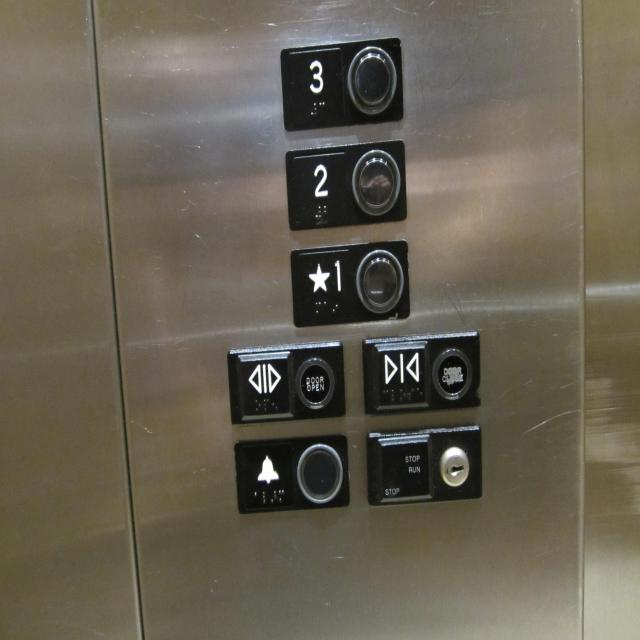2: (281, 137, 409, 232)
3: (277, 33, 405, 133)
alarm: (232, 429, 352, 516)
close: (360, 327, 484, 417)
open: (224, 337, 348, 427)
s1: (288, 235, 412, 330)
text: (364, 420, 486, 509)
